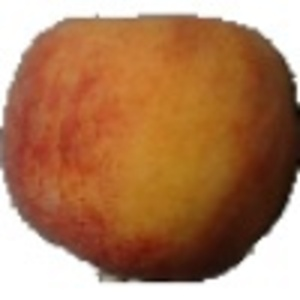pêssego: (1, 12, 300, 286)
